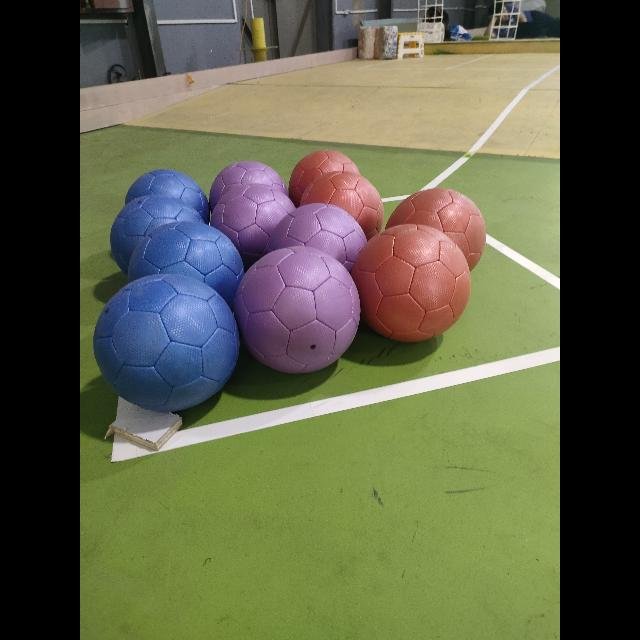B: (94, 274, 238, 412), (128, 221, 244, 323), (124, 170, 210, 222)
P: (234, 245, 360, 372), (272, 198, 368, 288), (209, 160, 287, 212)
R: (352, 224, 471, 340), (391, 188, 485, 284), (300, 173, 384, 239)
